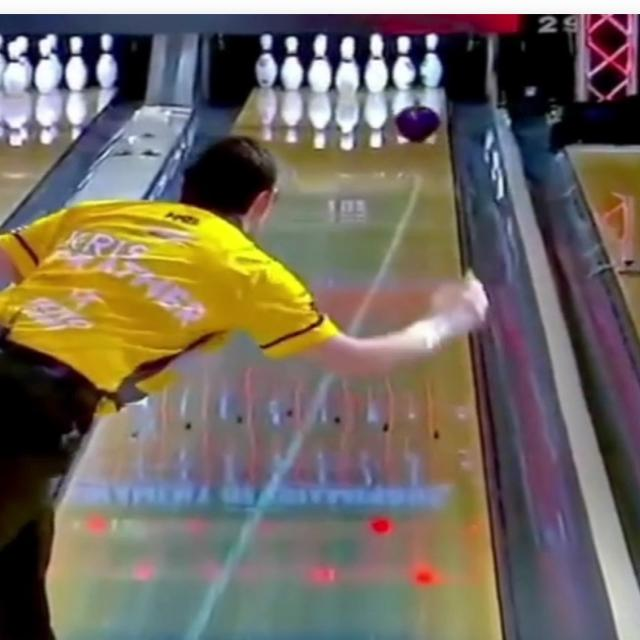alley: (50, 336, 500, 639), (234, 89, 460, 336)
balls: (396, 106, 440, 141)
bottle: (255, 34, 331, 90), (390, 34, 442, 90), (334, 36, 359, 89), (365, 34, 384, 91)
